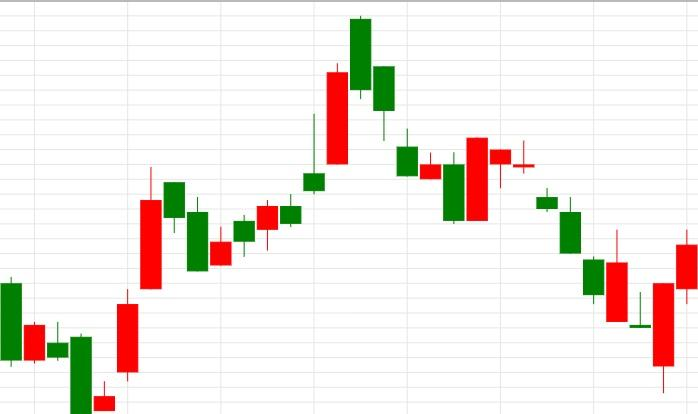bullish_engulfing_rise: (466, 137, 675, 393)
shooting_star_fall: (186, 114, 326, 271)
three_white_soldiers_rise: (0, 167, 163, 414)
